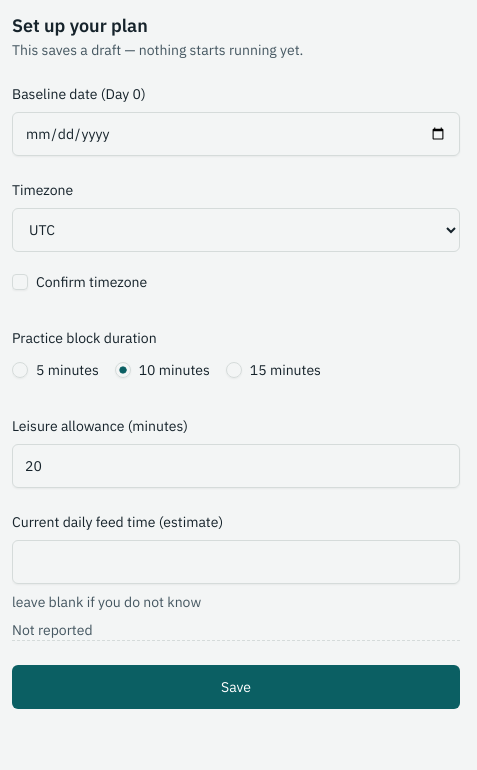
Test: PlanForm › network failure shows could-not-save, colored for attention (U15a), and does not navigate
The image size is (477, 770).
In the date field labelled "Baseline date (Day 0)": x=236, y=134 [12,112,460,156], type "2026-09-08"
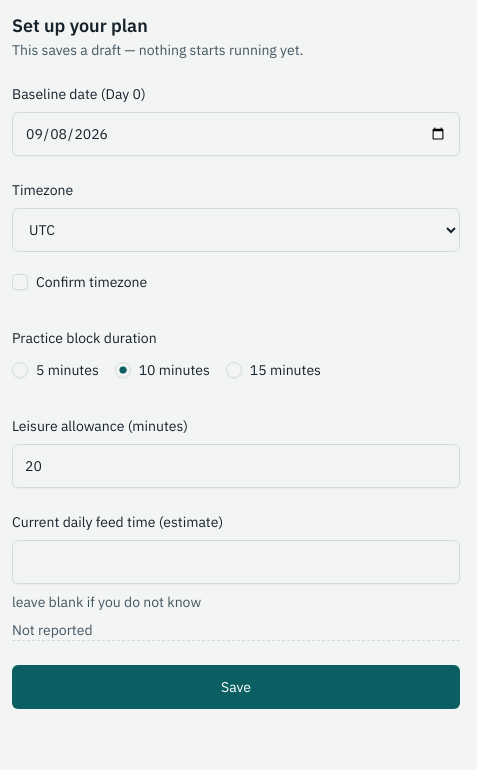
Click the checkbox named "Confirm timezone": x=20, y=282 [12,274,28,290]
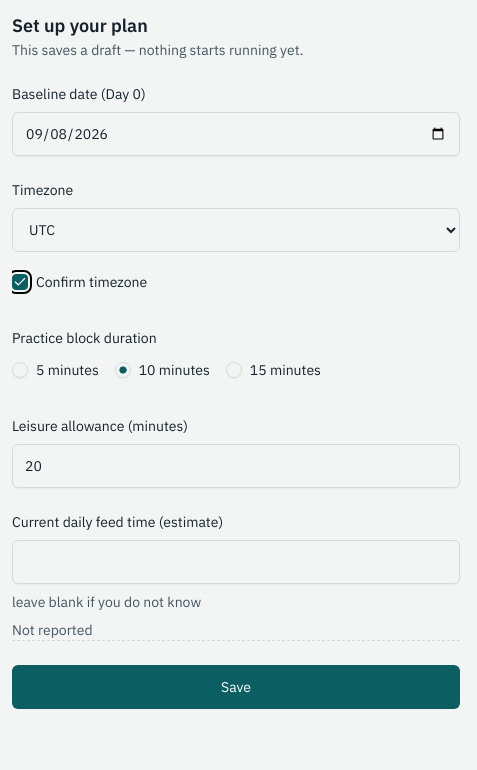
Click the button "Save": x=236, y=687 [12,665,460,709]
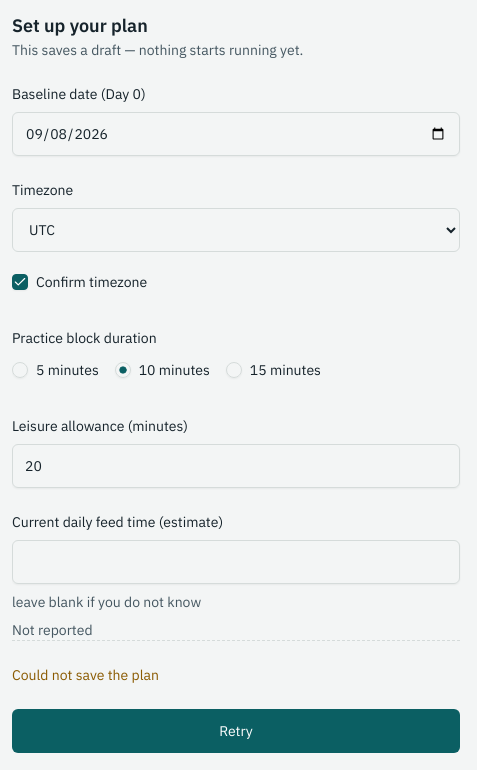
expect the message reads "Could not save the plan": met, box [12,666,159,684]
